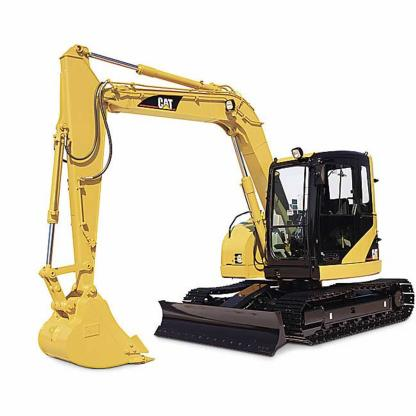excavator: (24, 37, 415, 376)
